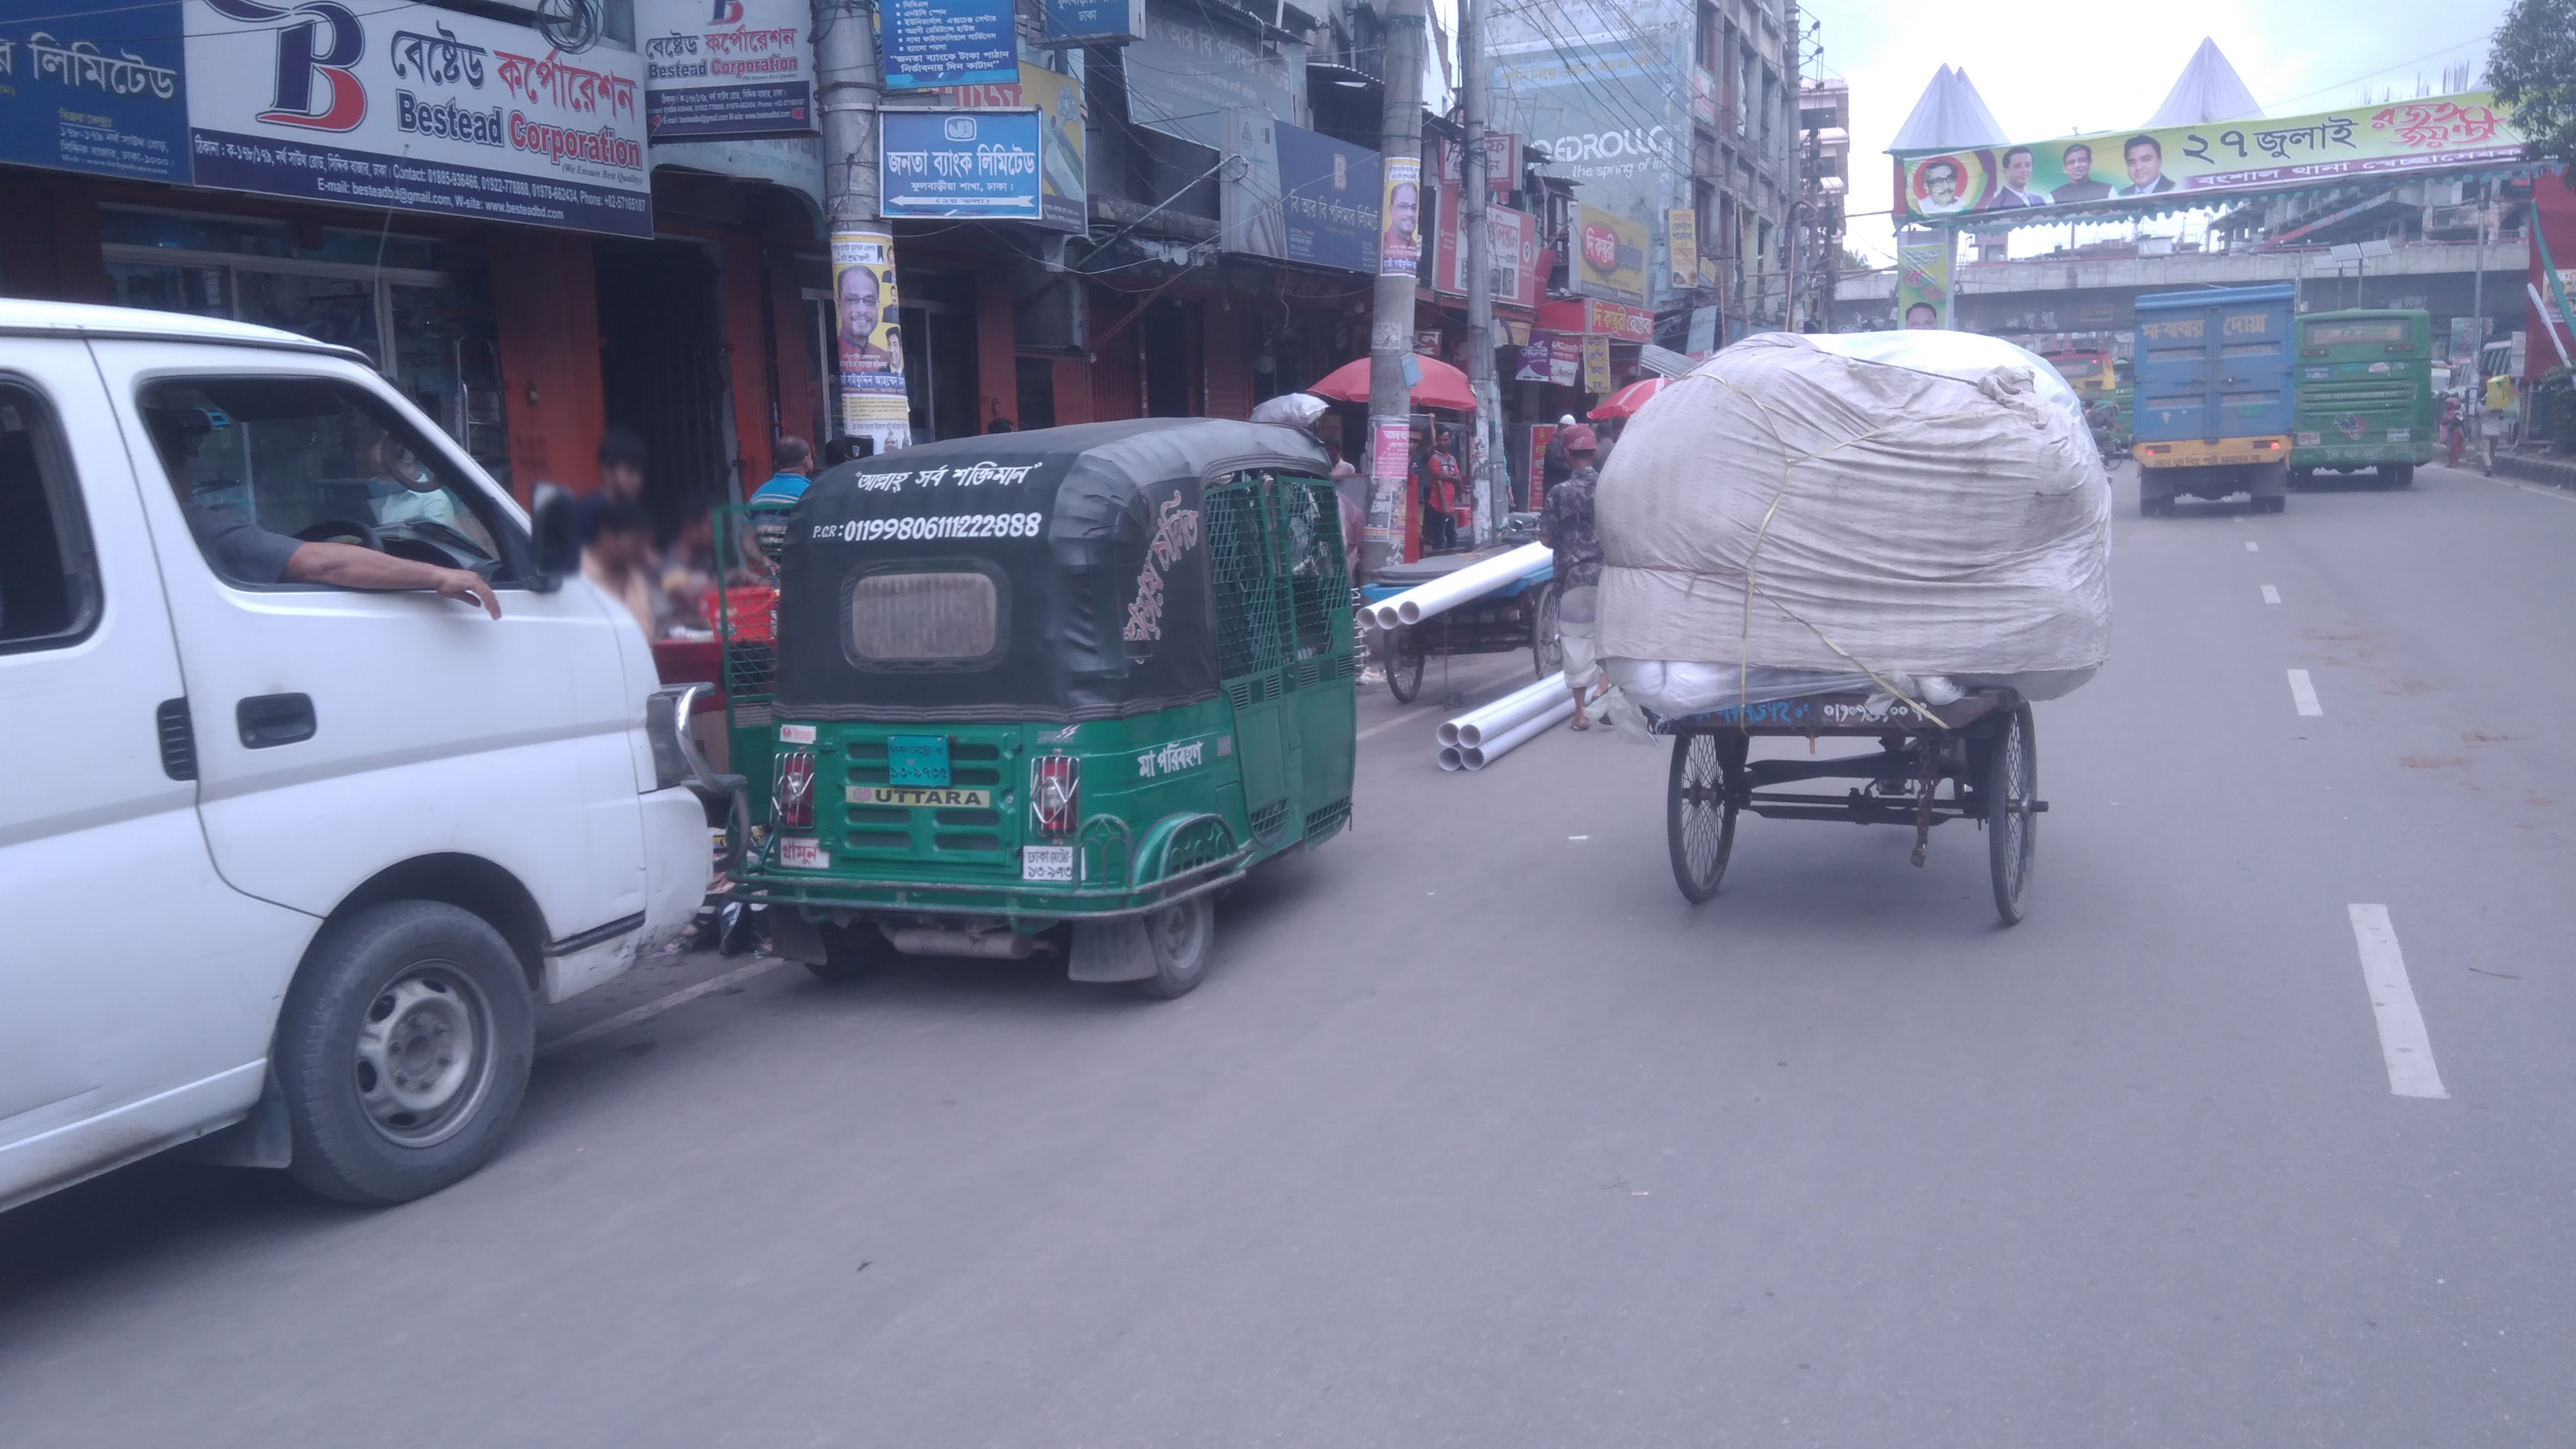bus: (2293, 299, 2443, 504)
car: (0, 285, 722, 1237)
cng: (732, 409, 1396, 1001)
truck: (2114, 269, 2307, 538)
van: (1603, 593, 2116, 948), (1345, 524, 1596, 718)
